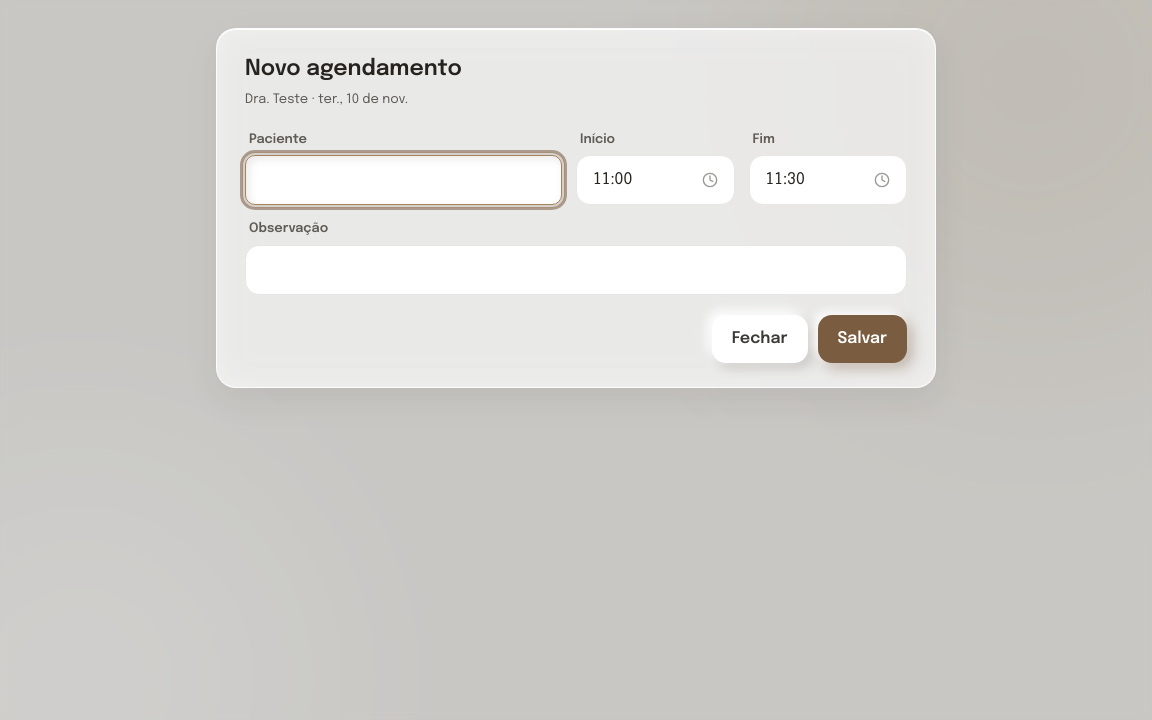
Test: Painel de agendamento › mostra a recusa do servidor quando o horário foi tomado por outra pessoa
The width and height of the screenshot is (1152, 720).
Type "Paciente Novo" into the field labelled "Paciente" at (404, 180), box x1=245 y1=155 x2=562 y2=205
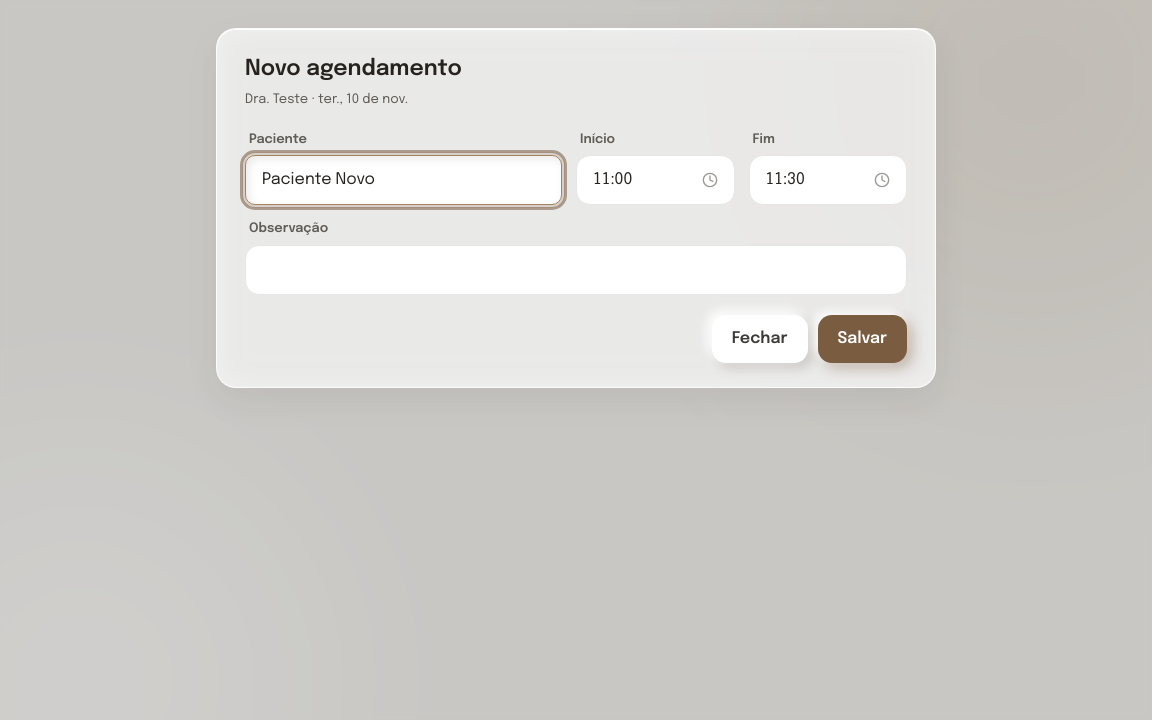
Click the button "Salvar" at (862, 338), box x1=818 y1=314 x2=907 y2=362
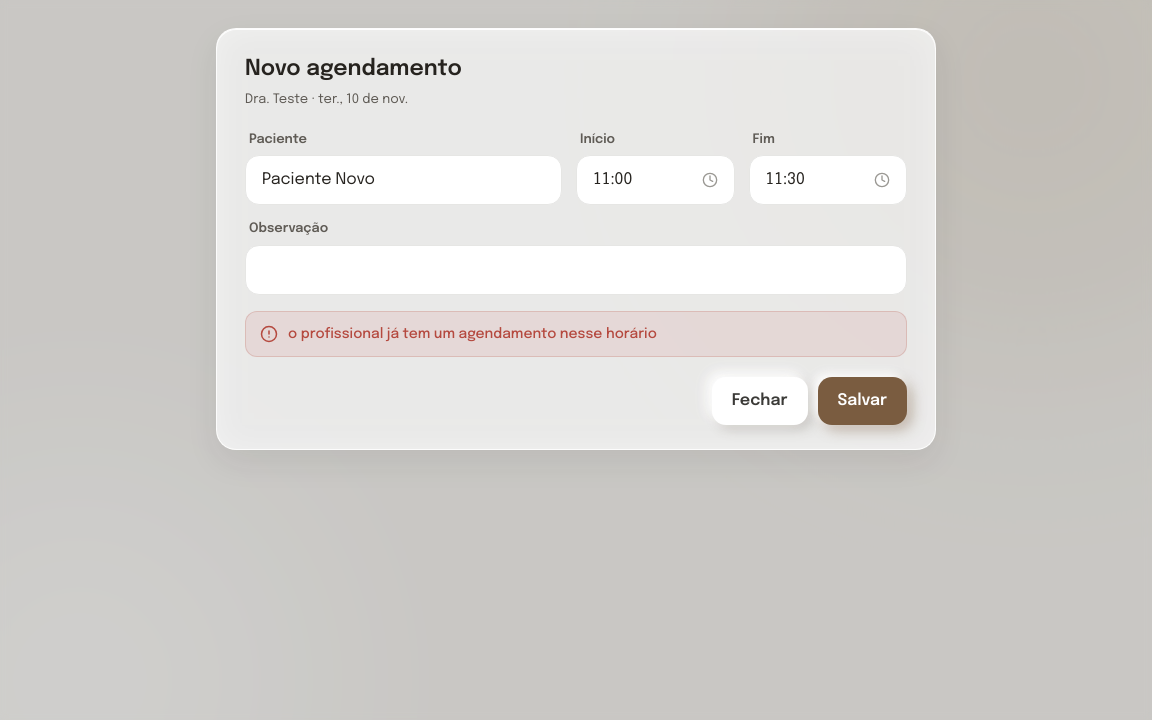
Expected: the message shows "já tem um agendamento nesse horário", x1=288 y1=326 x2=657 y2=340
